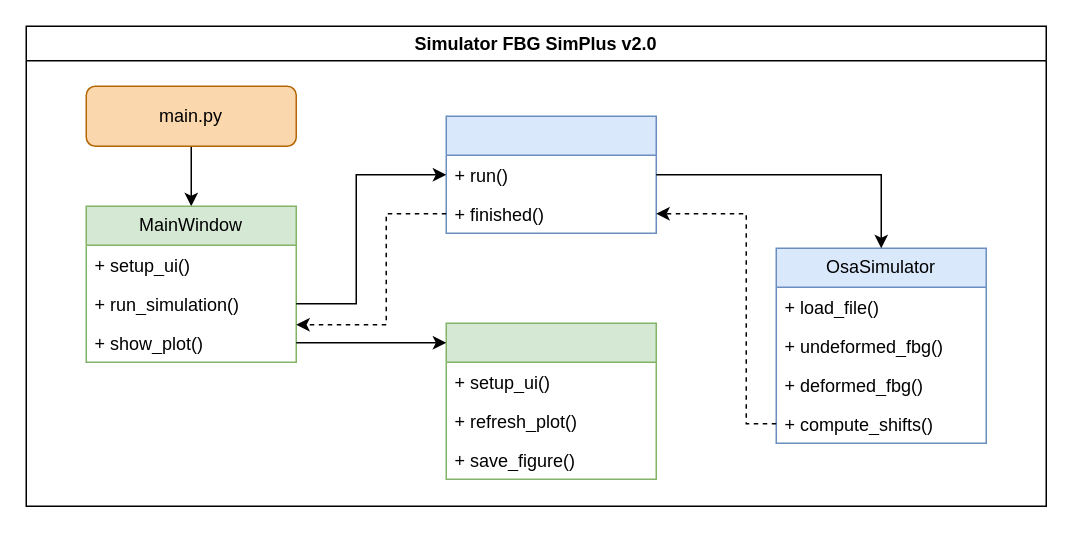
This 1073x533 diagram has some shape labels left out. The shapes that lost their labels are listed below. From the top down, each one's box as (x1, y1, x2, y2) in pixels, then its label:
(445, 115, 656, 233): SimulationWorker
(445, 322, 656, 479): SpectrumView
